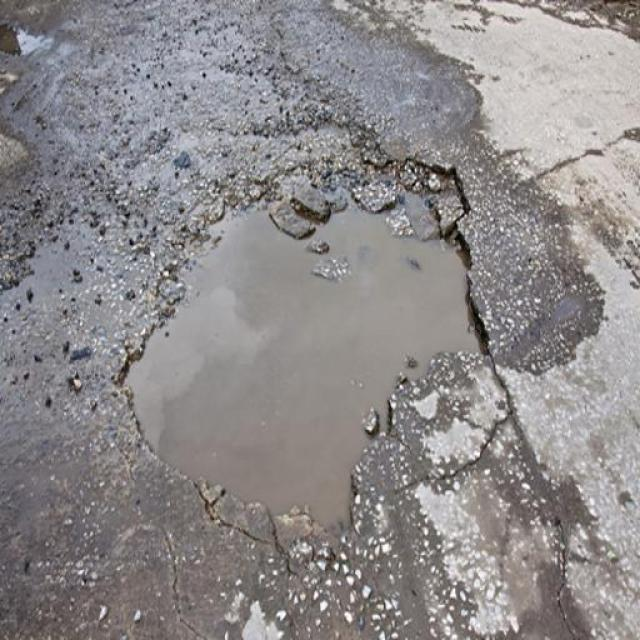puddle: (173, 227, 377, 512)
